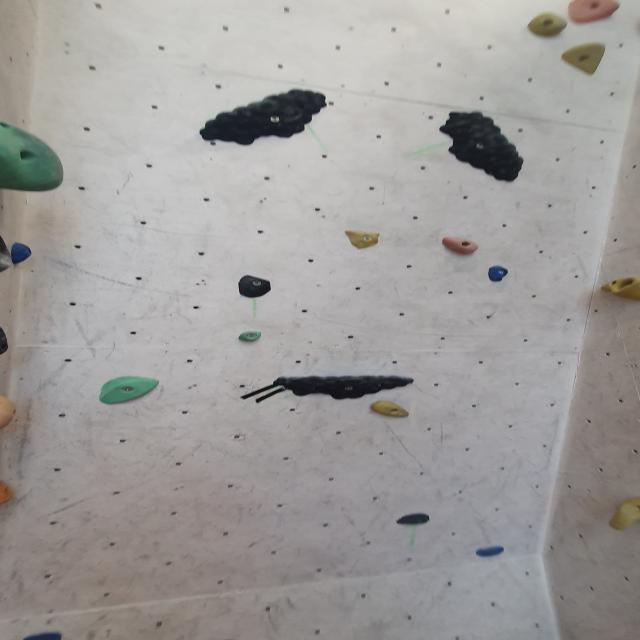Crimp: (234, 272, 279, 301), (339, 227, 382, 253), (393, 510, 436, 530), (472, 544, 509, 562), (485, 266, 512, 284)
Jug: (194, 80, 334, 151), (434, 105, 532, 186), (266, 362, 416, 402), (557, 38, 613, 76), (563, 0, 622, 27), (524, 9, 570, 41), (605, 493, 640, 532), (440, 235, 483, 258)
Pinch: (367, 397, 412, 420)
Pocket: (599, 274, 640, 304)
Sloper: (0, 120, 69, 198)
